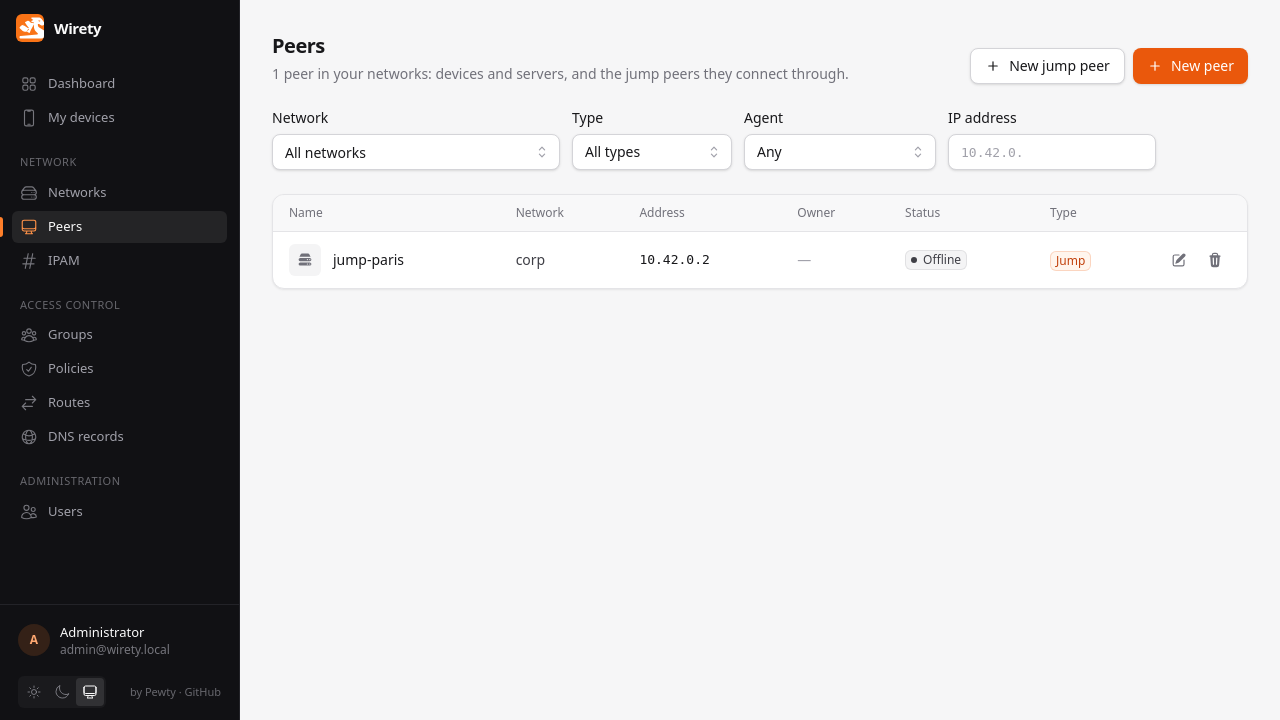
Test case: New jump peer / edit jump peer › lets the server pick the port when the field is cleared
Click the button "New jump peer".
click(1048, 66)  # box top-left (970, 48), bottom-right (1125, 84)
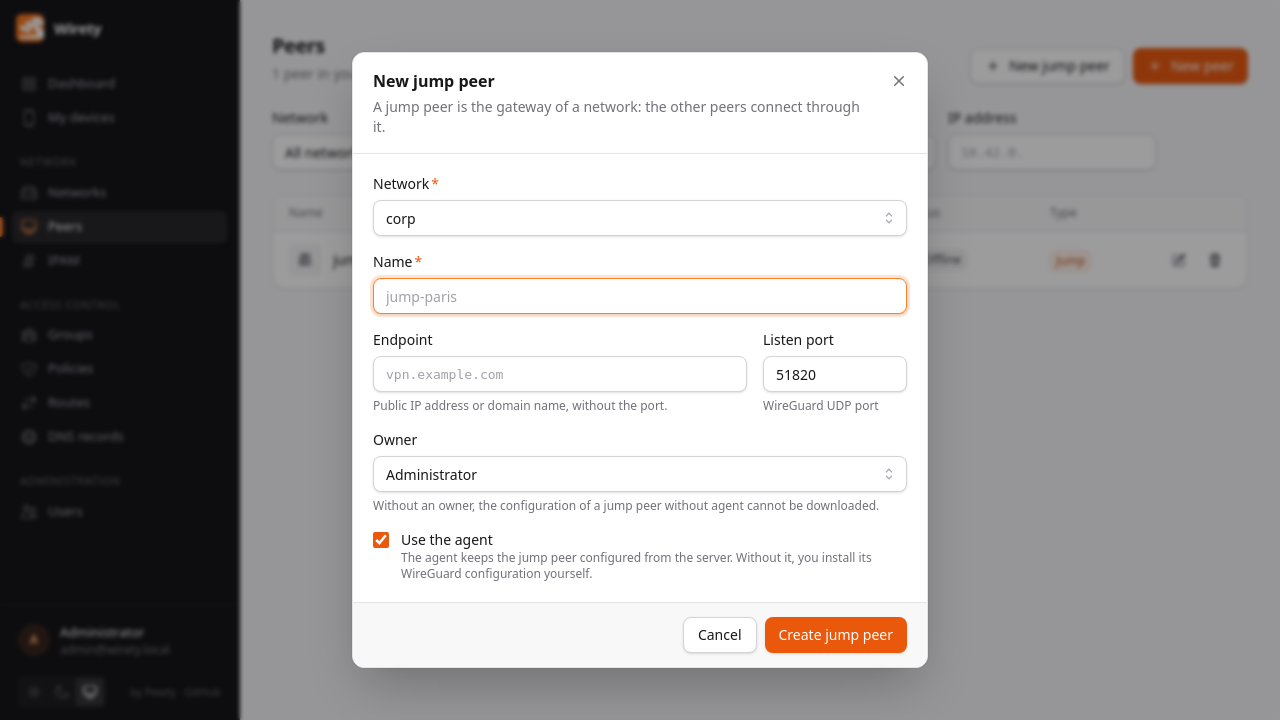
Type "jump-lyon" into the field labelled "Name*".
click(640, 296); type("jump-lyon")  # box top-left (373, 278), bottom-right (907, 314)
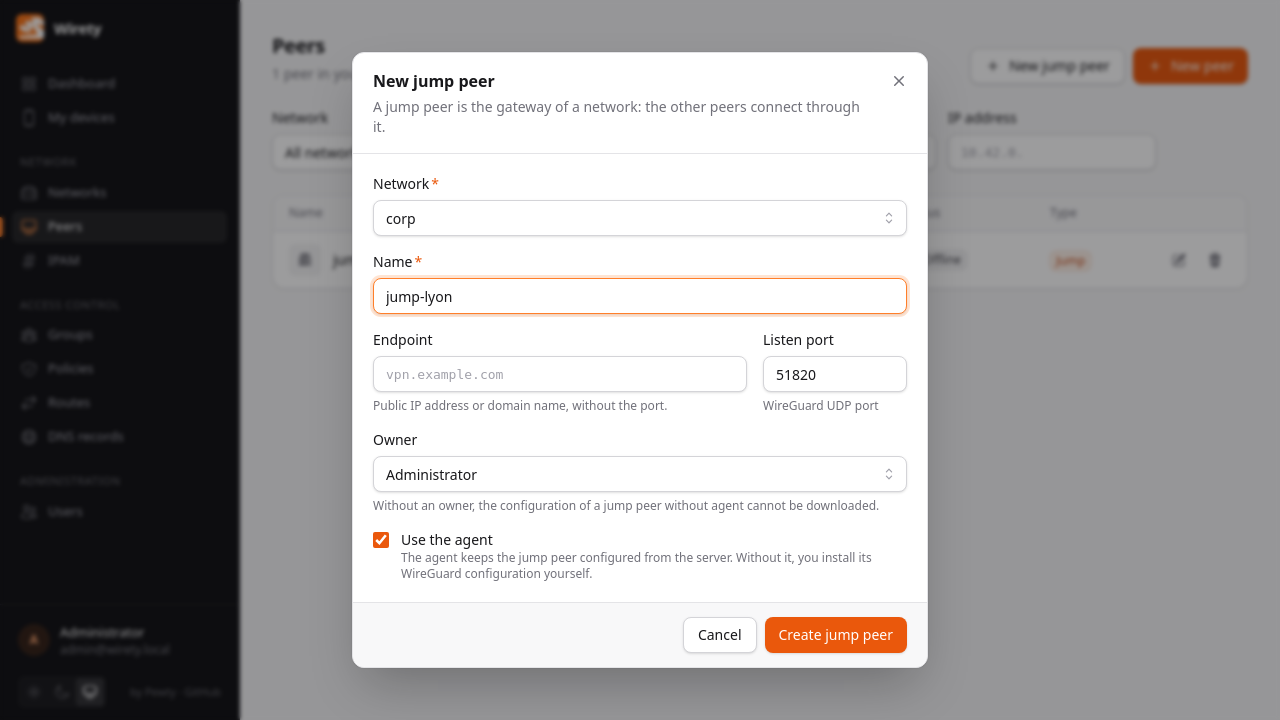
Clear the number field labelled "Listen port" at (835, 374), box top-left (763, 356), bottom-right (907, 392)
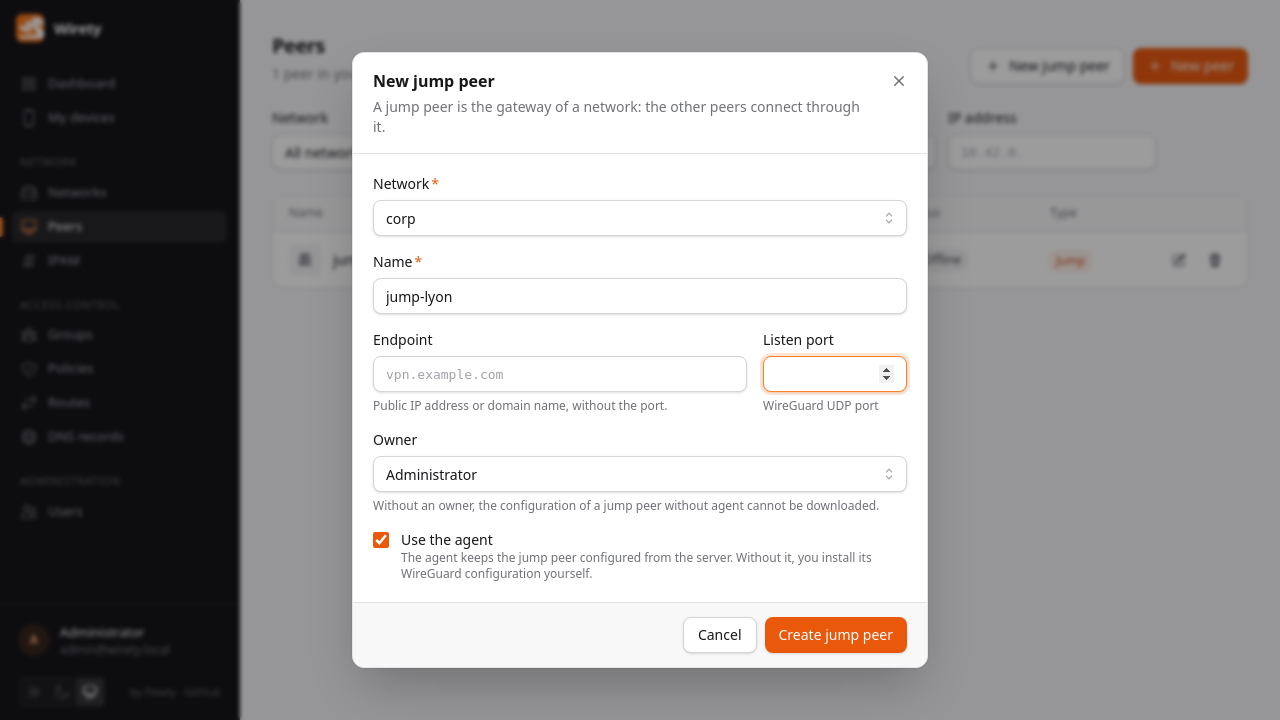
Click the button "Create jump peer".
click(836, 635)  # box top-left (764, 617), bottom-right (907, 653)
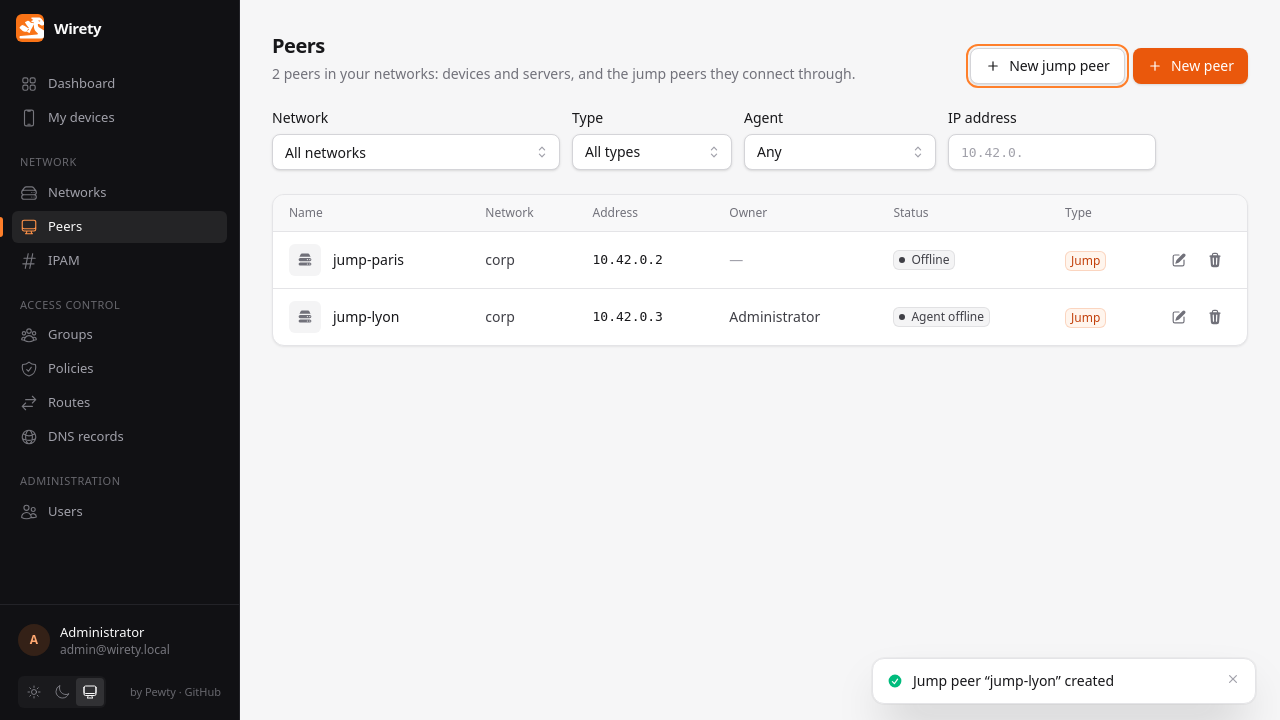
expect the text "Jump peer “jump-lyon” created" is shown: met, box top-left (913, 671), bottom-right (1114, 690)
